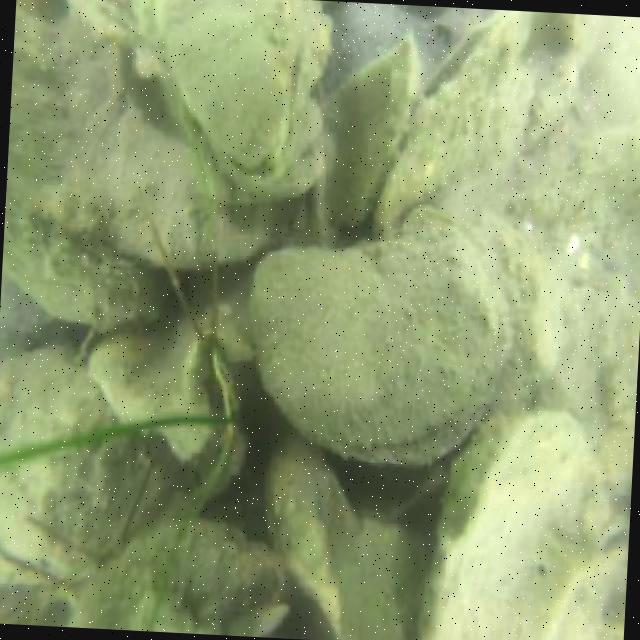Oyster-Closed: (245, 205, 514, 474), (6, 0, 272, 271), (422, 408, 612, 639), (0, 345, 169, 584), (69, 515, 282, 634), (2, 189, 166, 327)
Oyster-Open: (370, 8, 537, 242), (162, 0, 308, 182)
